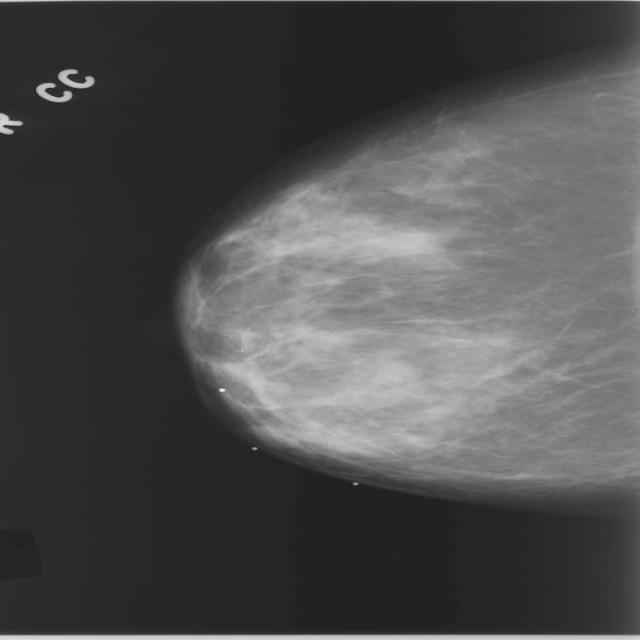tumour: (250, 420, 305, 449)
